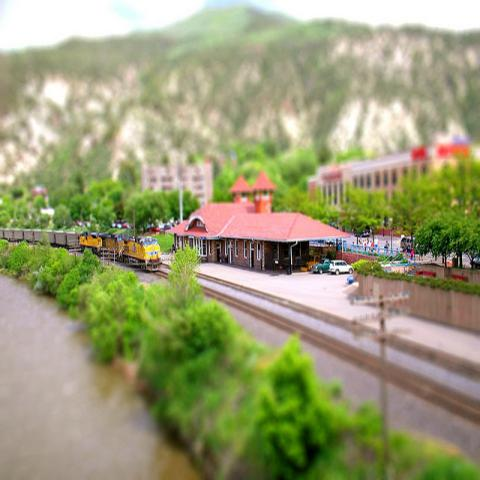car: (328, 260, 354, 275), (310, 258, 330, 274), (469, 253, 480, 269)
